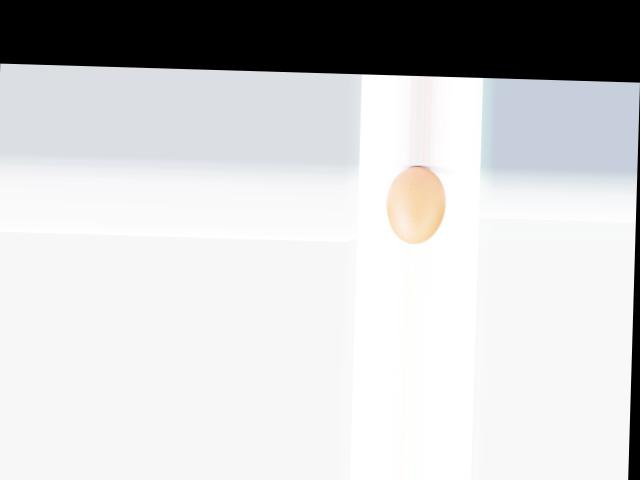egg: (385, 165, 447, 244)
